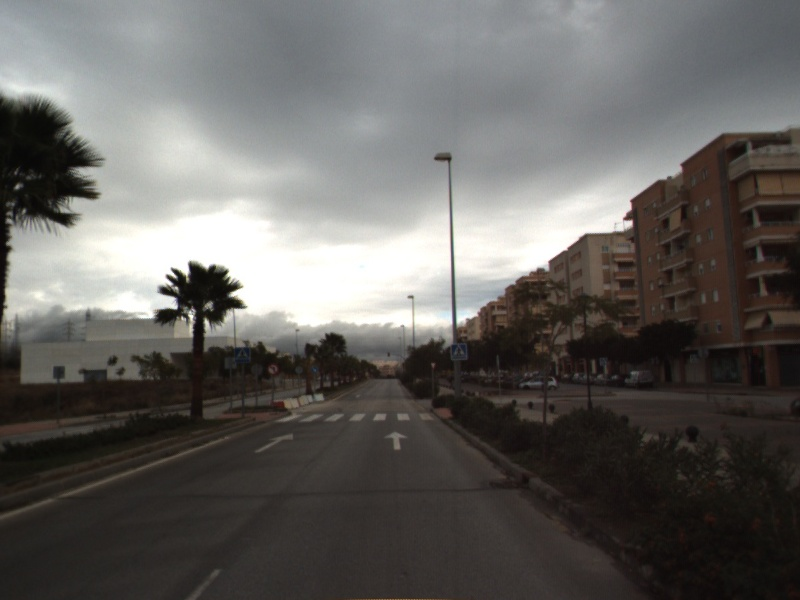STRAIGHT: (253, 431, 295, 454), (382, 429, 410, 452)
